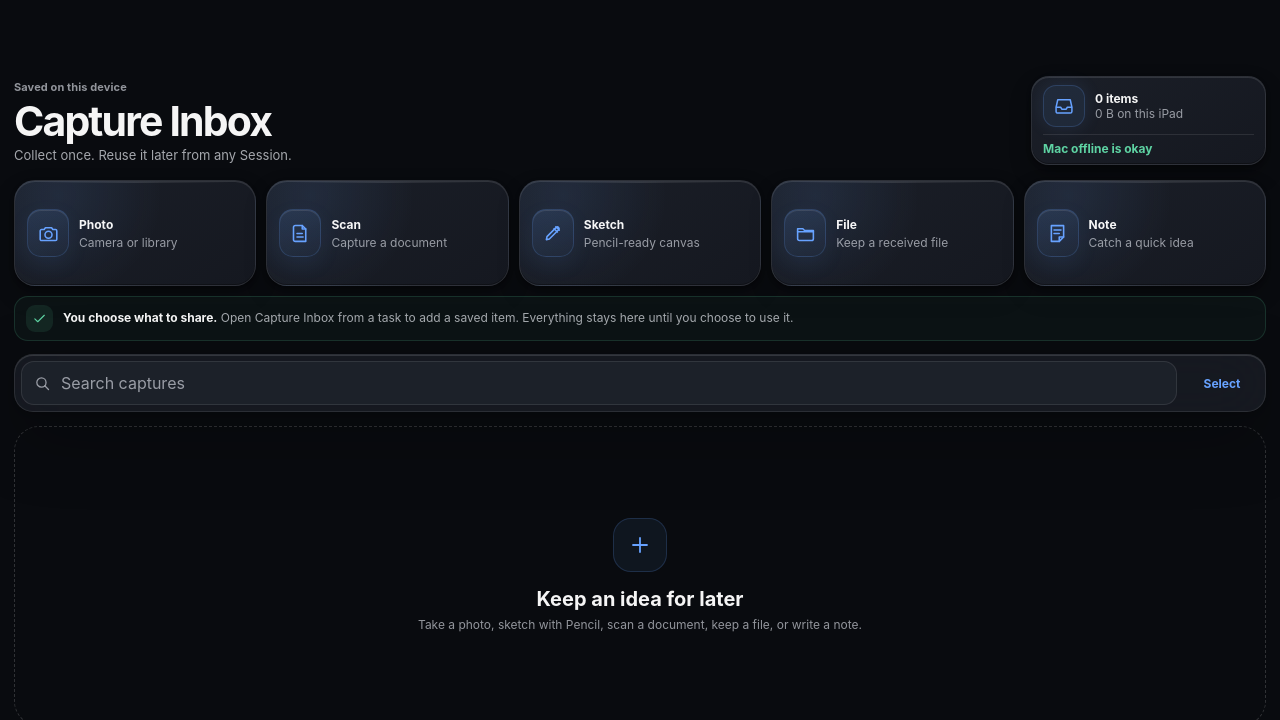
it: CaptureInboxPage save recovery › preserves a sketch after export fails and retries the same scene
This screenshot has width=1280, height=720.
Click the button "Sketch Pencil-ready canvas": (640, 233) x1=519 y1=180 x2=761 y2=286
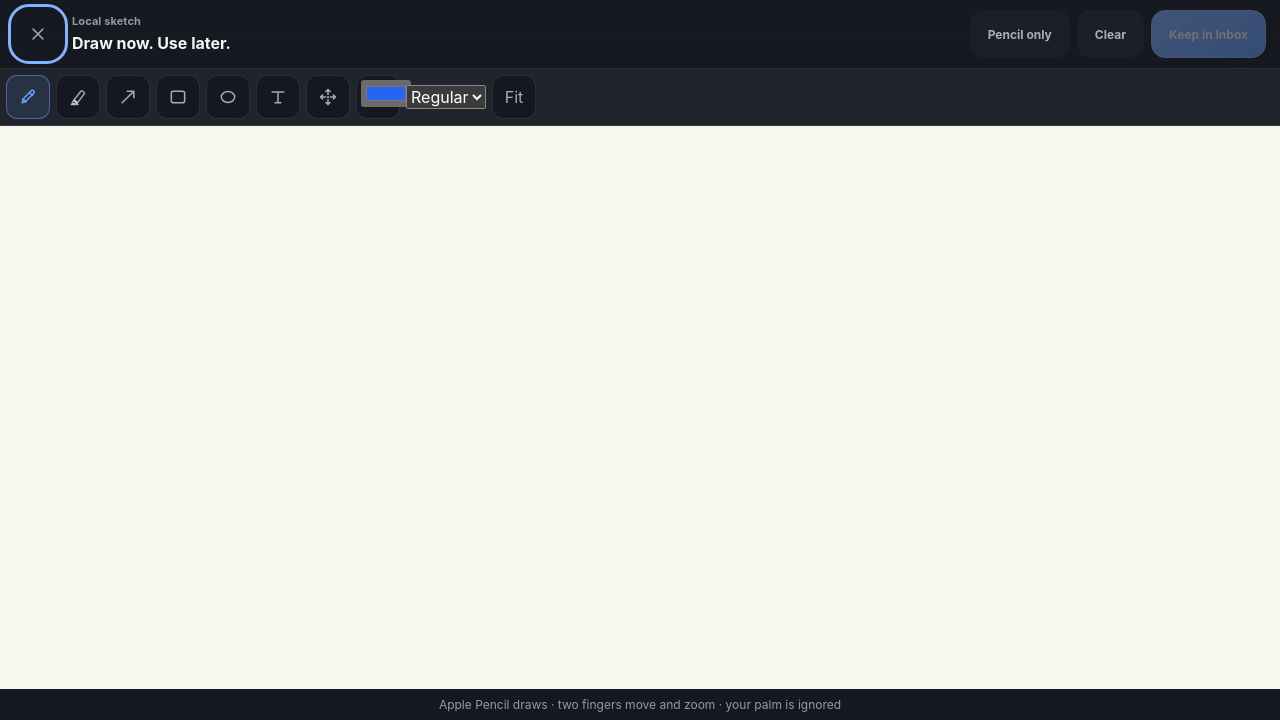
Press the mouse on the picture named "Frame annotation canvas": (640, 408) x1=0 y1=126 x2=1279 y2=689
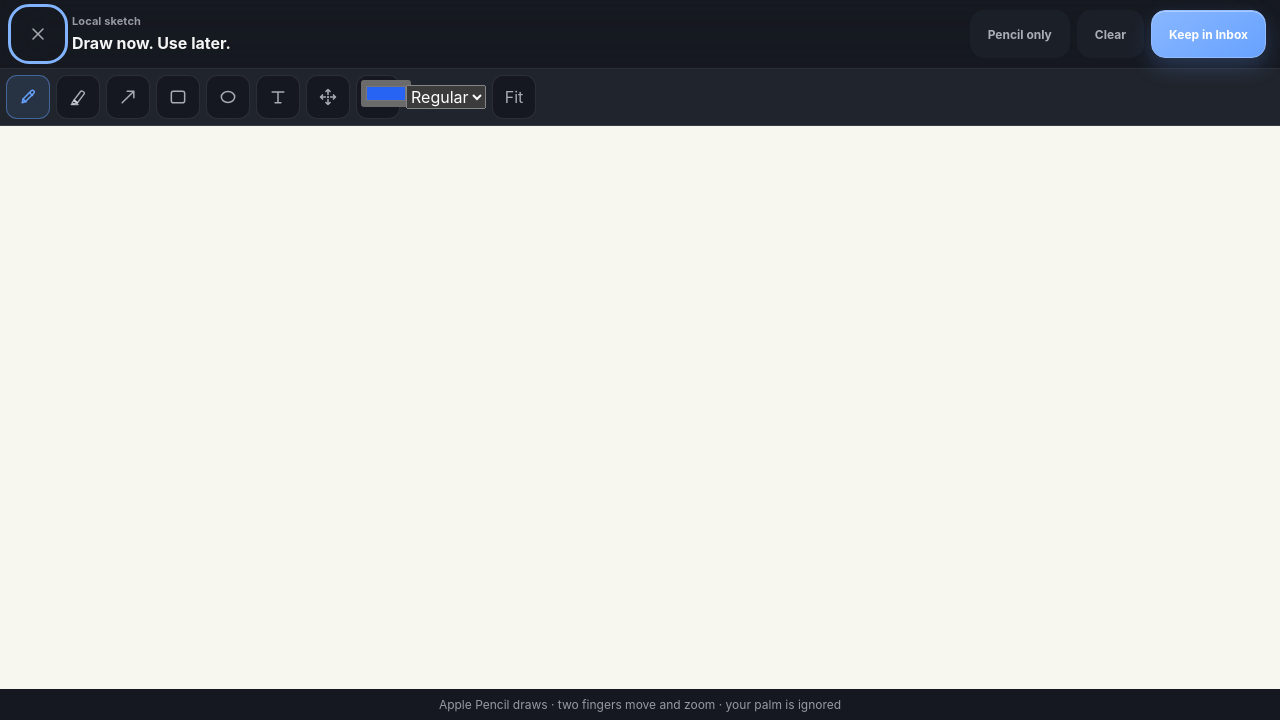
Press the mouse on the picture named "Frame annotation canvas": (640, 408) x1=0 y1=126 x2=1279 y2=689
Click the button "Keep in Inbox": (1209, 34) x1=1151 y1=10 x2=1266 y2=58
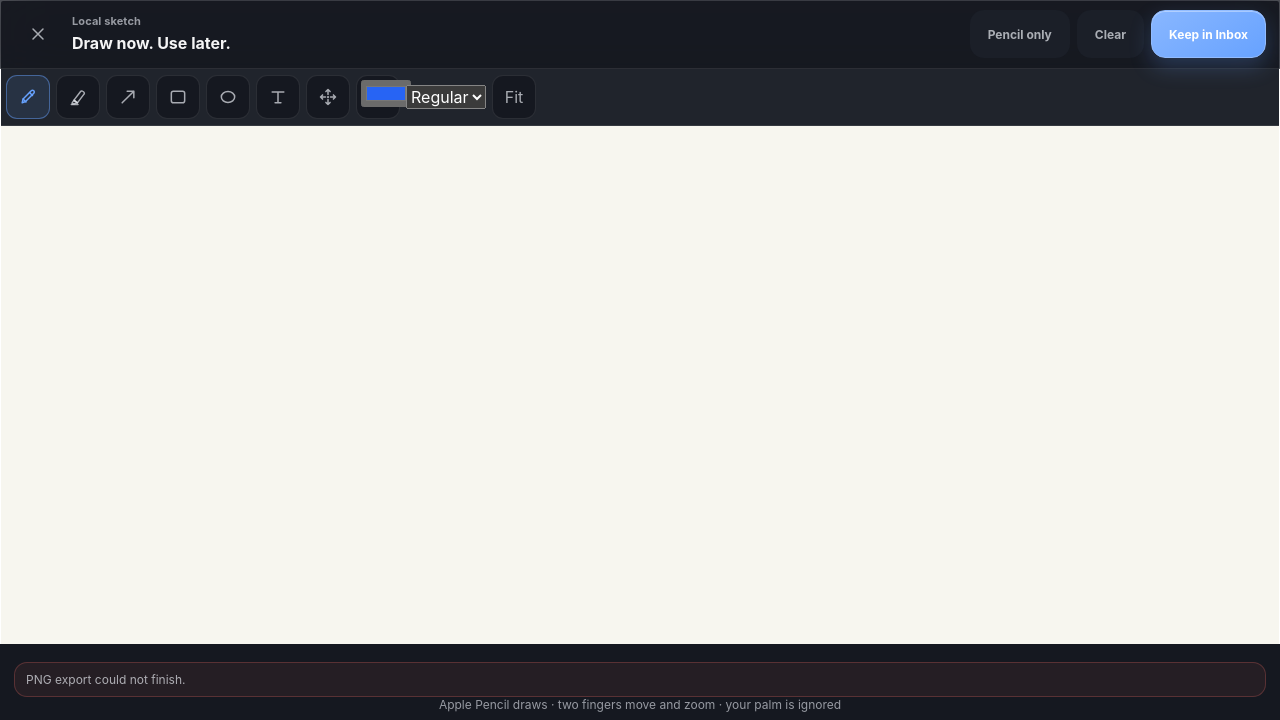
Now the button "Clear" is enabled, box x1=1077 y1=10 x2=1144 y2=58
Now the button named "Pen" is enabled, box x1=6 y1=75 x2=50 y2=119
Now the message reads "PNG export could not finish.", box x1=26 y1=672 x2=186 y2=687
Click the button "Keep in Inbox": (1209, 34) x1=1151 y1=10 x2=1266 y2=58
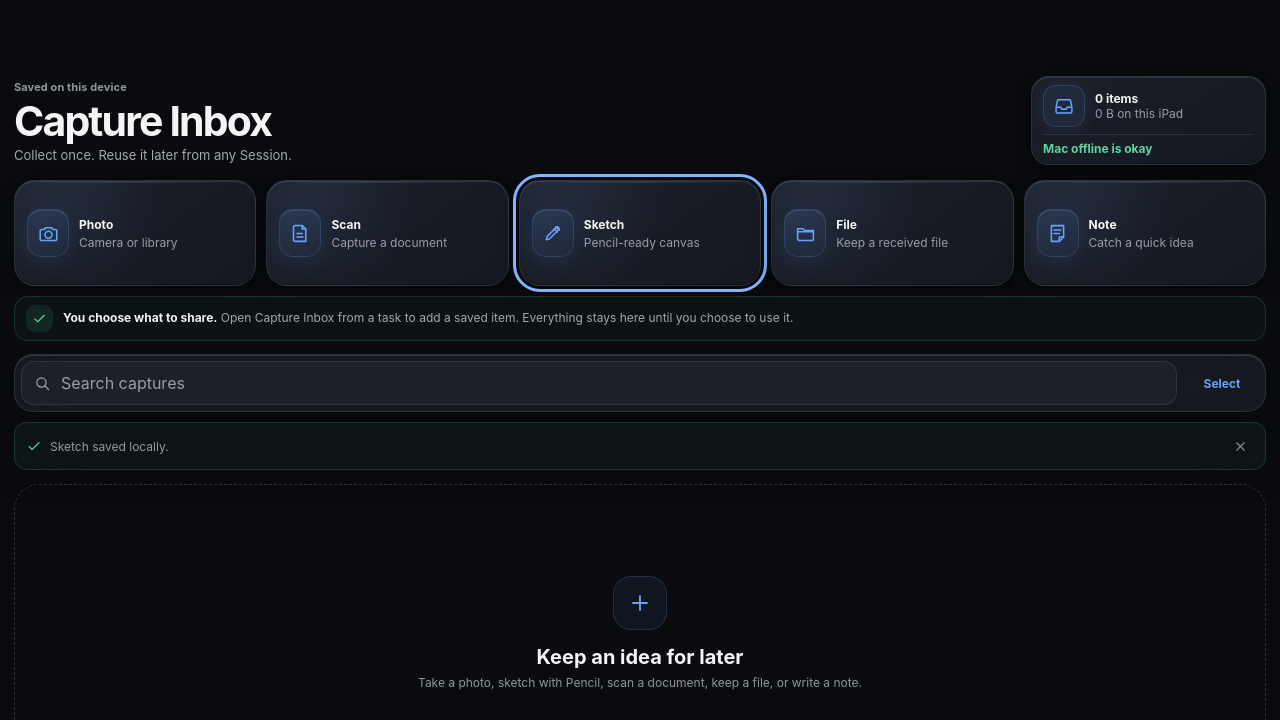
Now the dialog is gone
